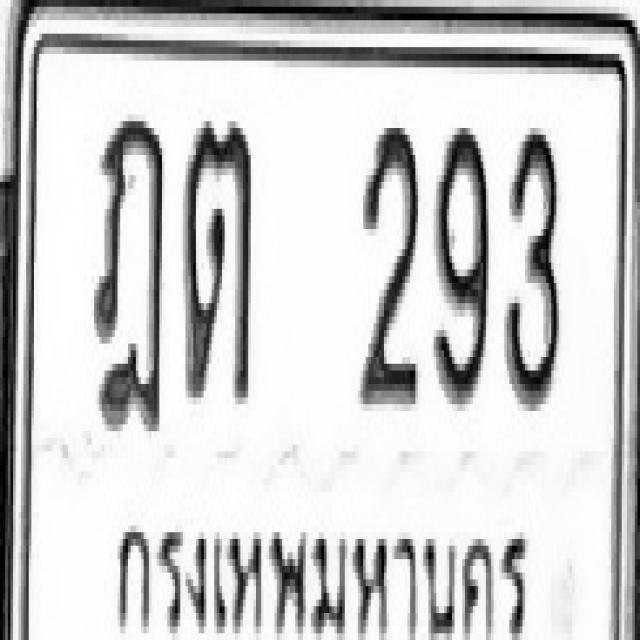2: (358, 121, 418, 404)
23DorChaDa: (90, 111, 163, 435)
3: (503, 121, 560, 411)
30TorTao: (182, 111, 252, 401)
9: (431, 121, 489, 404)
Bangkok: (100, 495, 543, 640)
